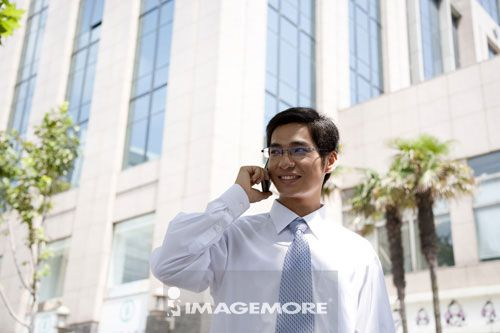talk: (237, 137, 314, 208)
